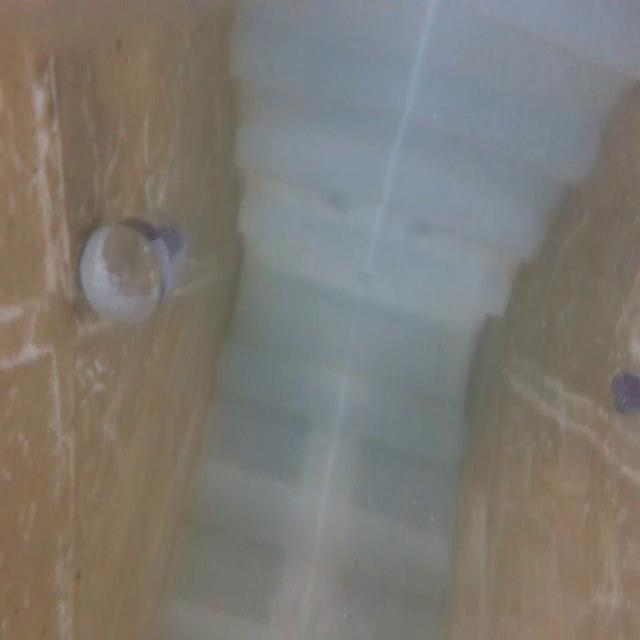plastic bottle: (50, 190, 249, 376)
